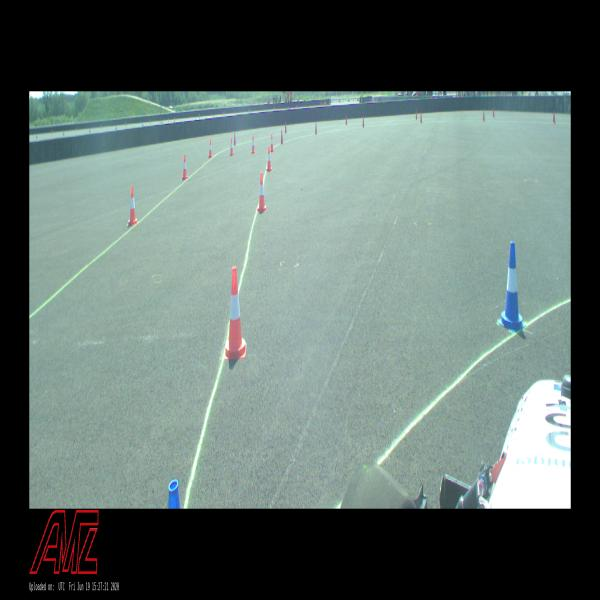blue_cone: (498, 240, 526, 332), (168, 478, 181, 508)
orange_cone: (224, 266, 246, 360), (127, 186, 139, 226), (257, 172, 267, 213), (266, 146, 272, 172), (182, 155, 188, 180), (208, 139, 213, 158), (230, 137, 234, 156), (251, 135, 255, 153), (270, 134, 274, 152)
